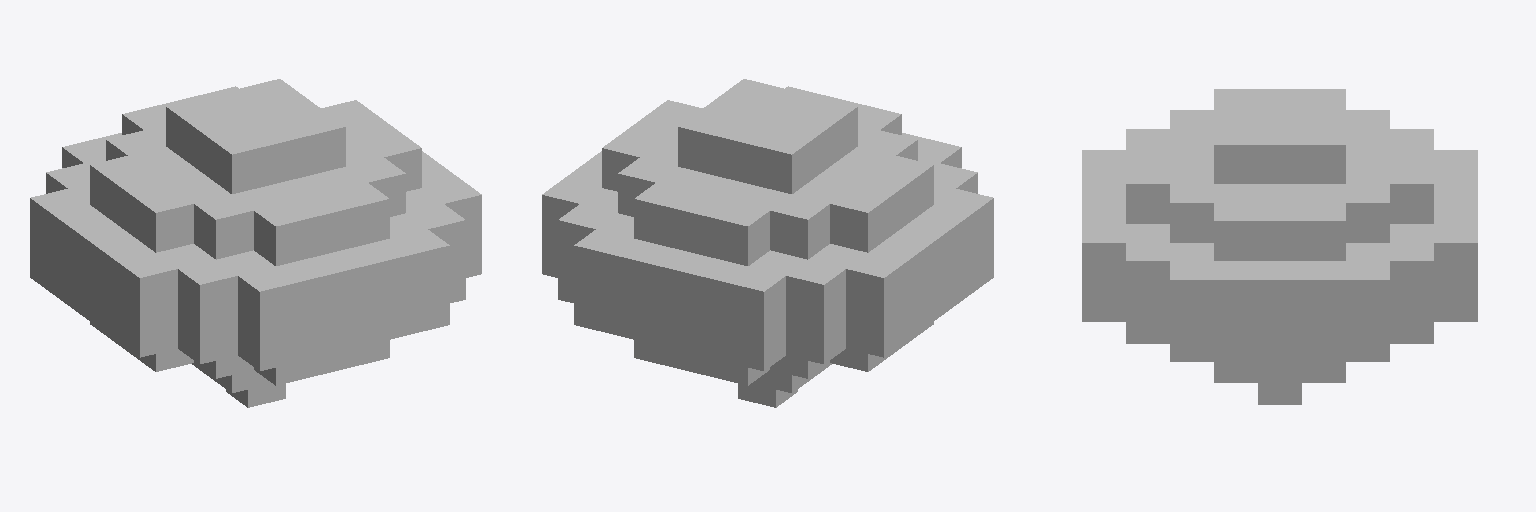
Rendered from Bush2.obj.
3 views of the same model, side by side, from view 1: azimuth 30°, elevation 25°; view 2: azimuth 150°, elevation 25°; view 3: azimuth 270°, elevation 25° (orthographic).
Size of the model in its own units: 9 by 7 by 9.